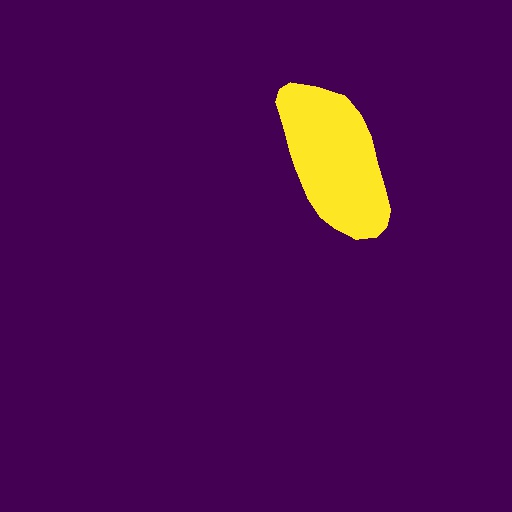Gliomia_tumour: (275, 82, 391, 240)
